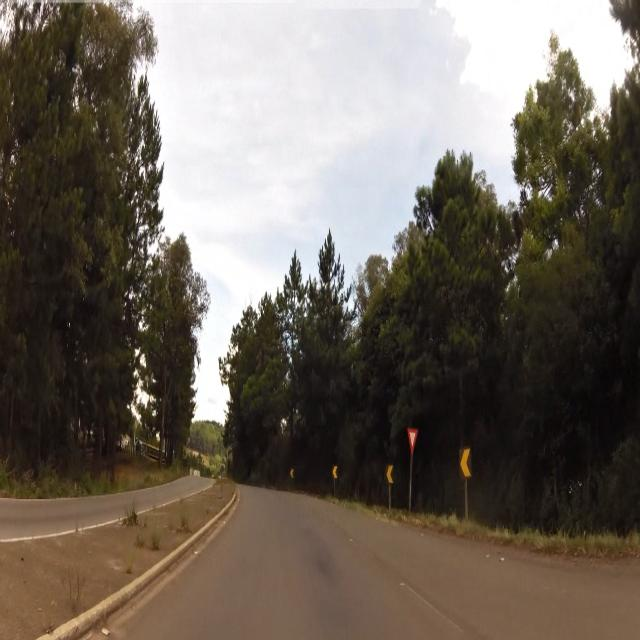Del: (460, 444, 472, 484), (386, 460, 394, 485), (332, 464, 338, 479)
R-2: (407, 428, 421, 457)
